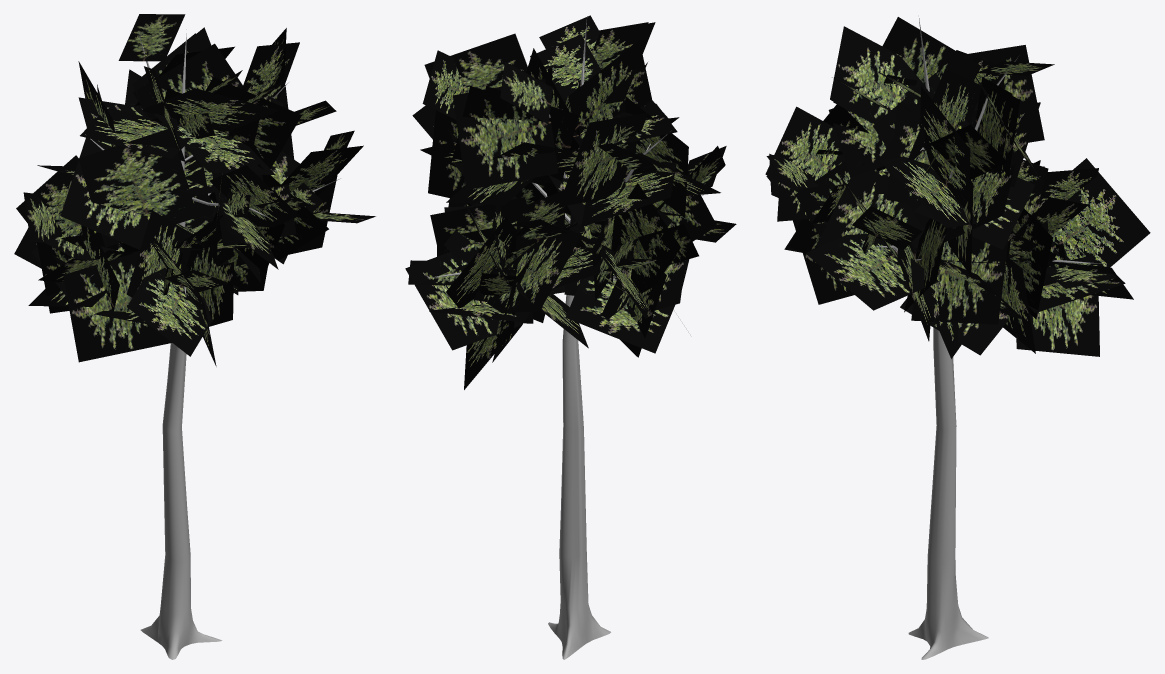
Rendered from tree_1.fbx.
3 views of the same model, side by side, from view 1: azimuth 30°, elevation 25°; view 2: azimuth 150°, elevation 25°; view 3: azimuth 270°, elevation 25° (orthographic).
Parts seen in each view (by area): view 1: tree06; view 2: tree06; view 3: tree06.
Boxes of the visible parts, x1,y1,x2,y2 form: tree06: (14, 14, 375, 659); tree06: (405, 15, 736, 659); tree06: (765, 17, 1150, 659).
Bounding box in the file's own units: 1341 × 2645 × 1467.
